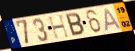3: (32, 17, 49, 43)
6: (86, 9, 103, 34)
7: (14, 18, 31, 45)
A: (104, 7, 123, 32)
B: (65, 12, 86, 38)
H: (47, 13, 71, 40)
